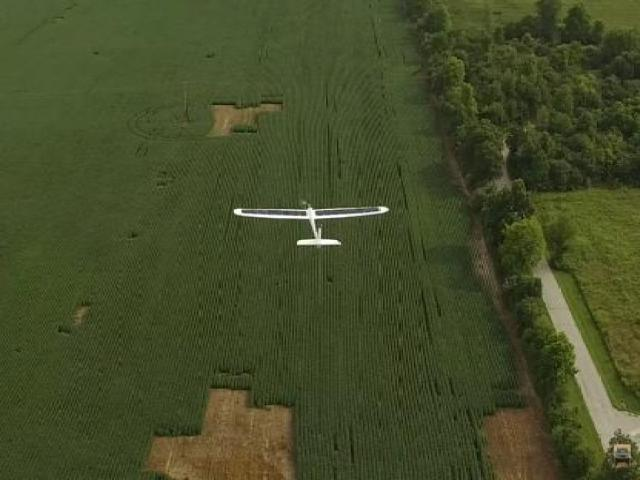uav: (227, 190, 395, 260)
